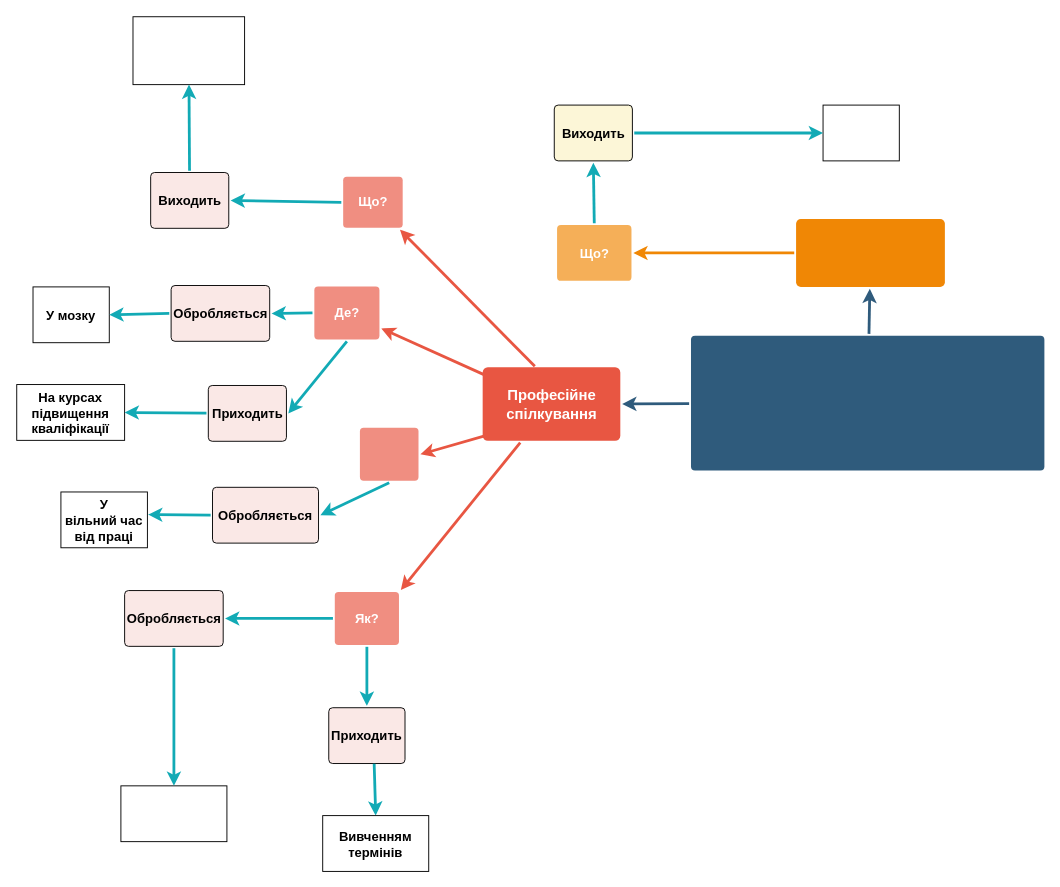
The diagram is 1060 pixels wide and 887 high, and some of its shapes have lost their labels. Here are the shapes that lost their labels. From the top down, the centre of each, then its label:
(x=188, y=50): Підвищення навичок проф спілкування
(x=860, y=132): Вивчення нового
(x=870, y=252): Зацікавленість архітектурою
(x=867, y=402): Потреба у підвищені кваліфікації у архітектурі
(x=388, y=453): Коли?
(x=173, y=813): За допомогою мислених процесів
